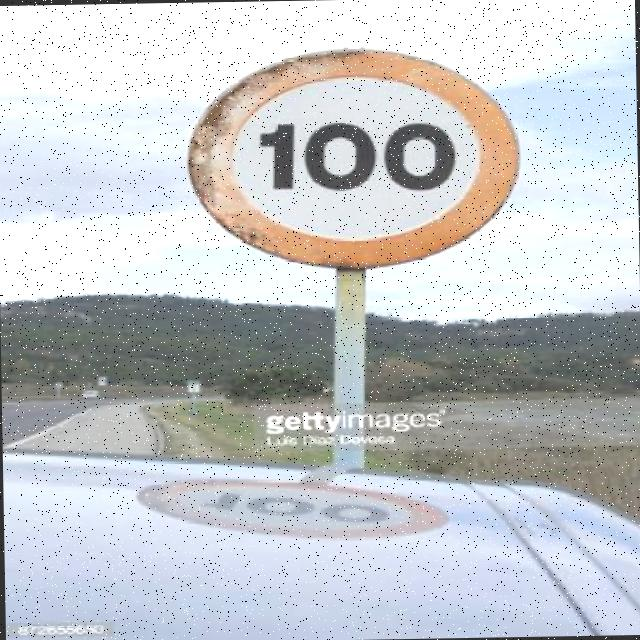Ograniczenie predkosci do 50: (209, 58, 506, 260)
